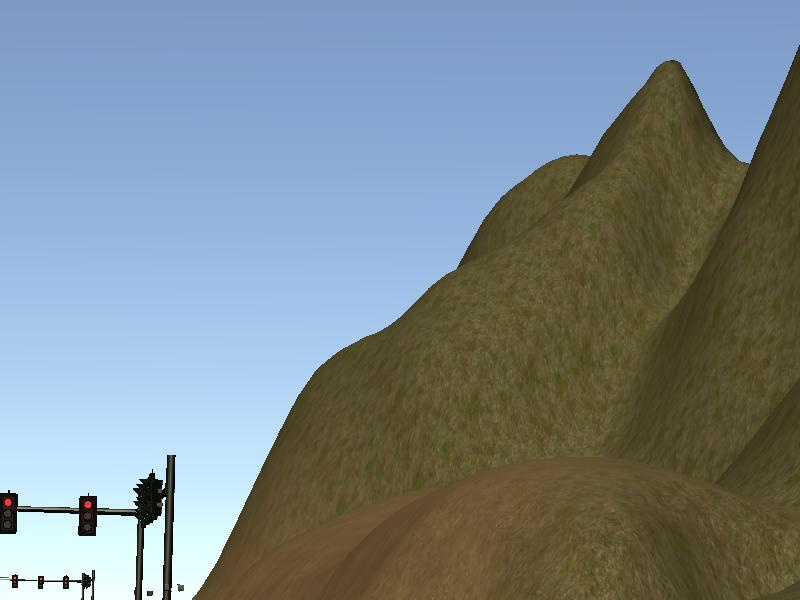red_light: (80, 498, 96, 537), (1, 495, 17, 533)
